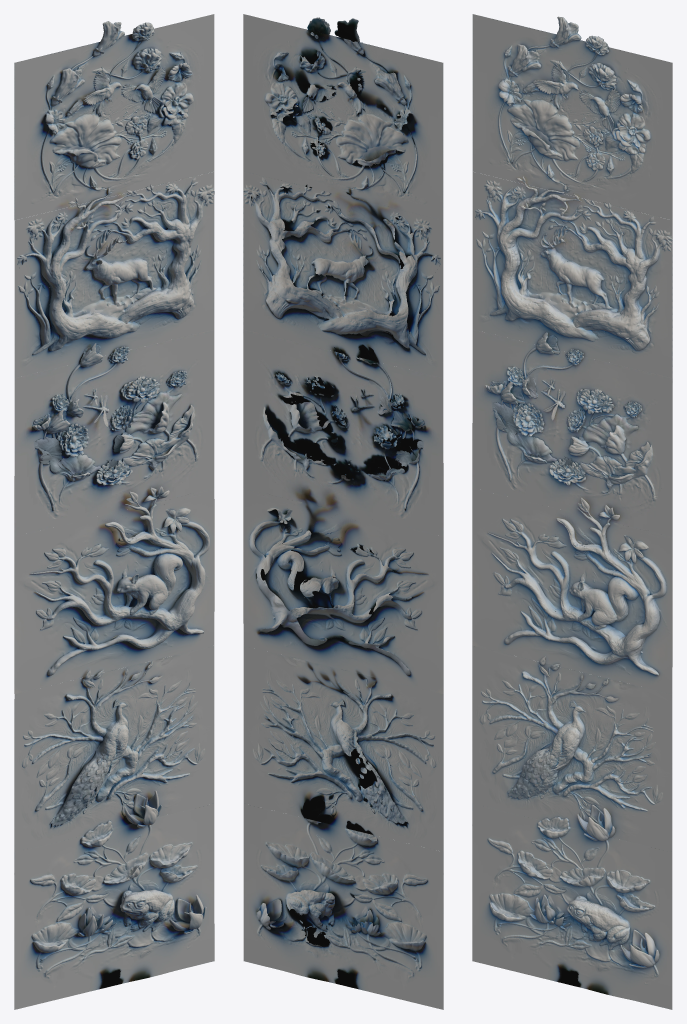
File: reliefs_low_compressed.glb
The picture shows the model from 3 angles, left to right: view 1: azimuth 30°, elevation 25°; view 2: azimuth 150°, elevation 25°; view 3: azimuth 330°, elevation 25°; orthographic projection.
Parts seen in each view (by area): view 1: frog_01.035, bird_01.029, squirrel_01.015, dragonflies_01.023, deer_01.043, peacock_v02.001; view 2: bird_01.029, dragonflies_01.023, frog_01.035, squirrel_01.015, deer_01.043, peacock_v02.001; view 3: frog_01.035, bird_01.029, squirrel_01.015, dragonflies_01.023, deer_01.043, peacock_v02.001.
Boxes of the visible parts, x1,y1,x2,y2 form: frog_01.035: (14, 790, 214, 1009); bird_01.029: (14, 14, 214, 220); squirrel_01.015: (14, 486, 214, 693); dragonflies_01.023: (14, 329, 214, 536); deer_01.043: (14, 172, 214, 377); peacock_v02.001: (14, 646, 214, 851); bird_01.029: (243, 14, 443, 220); dragonflies_01.023: (243, 329, 443, 536); frog_01.035: (243, 796, 443, 1009); squirrel_01.015: (243, 488, 443, 694); deer_01.043: (243, 171, 443, 377); peacock_v02.001: (243, 645, 443, 851); frog_01.035: (472, 803, 672, 1009); bird_01.029: (472, 14, 672, 220); squirrel_01.015: (472, 488, 672, 693); dragonflies_01.023: (472, 329, 672, 536); deer_01.043: (472, 172, 672, 377); peacock_v02.001: (472, 645, 672, 851).
Size of the model in its own units: 13.27 by 61.32 by 1.3.
Materials: 6 (6 with a texture image).
